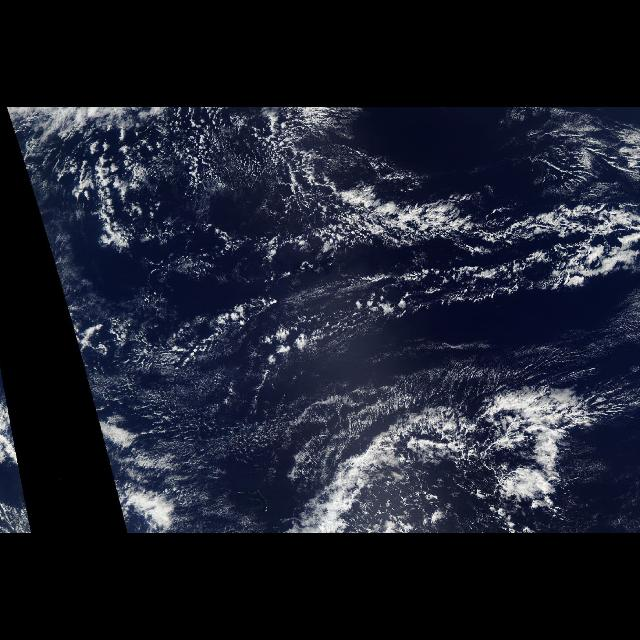Fish: (250, 165, 640, 335)
